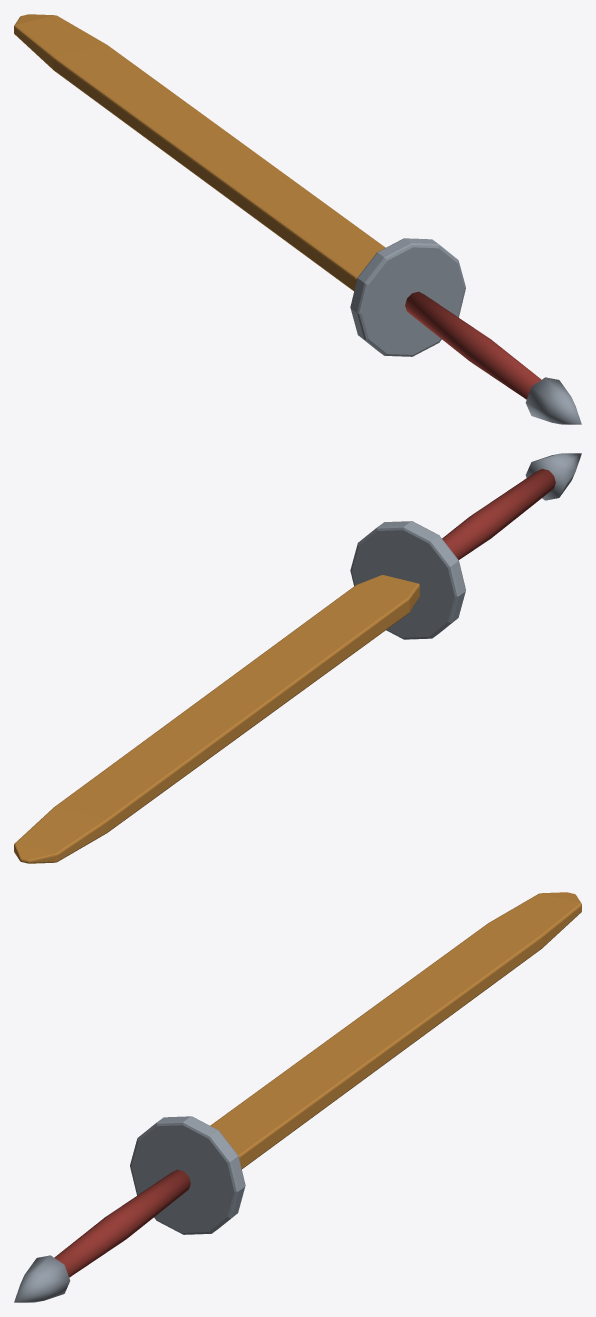
Rendered from greatsword_06_cleaver_bronze.glb.
3 renders of one model, top to bottom at view 1: azimuth 30°, elevation 25°; view 2: azimuth 150°, elevation 25°; view 3: azimuth 330°, elevation 25°, orthographic.
Parts seen in each view (by area): view 1: 06_cleaver_bronze_Blade, 06_cleaver_bronze_Guard, 06_cleaver_bronze_Grip, 06_cleaver_bronze_Pommel; view 2: 06_cleaver_bronze_Blade, 06_cleaver_bronze_Guard, 06_cleaver_bronze_Grip, 06_cleaver_bronze_Pommel; view 3: 06_cleaver_bronze_Blade, 06_cleaver_bronze_Guard, 06_cleaver_bronze_Grip, 06_cleaver_bronze_Pommel.
Part boxes in pixels (box(x1,y1,x2,y2)): 06_cleaver_bronze_Blade: box(14, 14, 385, 291); 06_cleaver_bronze_Guard: box(350, 238, 465, 356); 06_cleaver_bronze_Grip: box(405, 291, 541, 399); 06_cleaver_bronze_Pommel: box(525, 377, 581, 424); 06_cleaver_bronze_Blade: box(14, 575, 419, 863); 06_cleaver_bronze_Guard: box(350, 521, 465, 639); 06_cleaver_bronze_Grip: box(442, 468, 555, 559); 06_cleaver_bronze_Pommel: box(525, 453, 581, 500); 06_cleaver_bronze_Blade: box(210, 892, 581, 1169); 06_cleaver_bronze_Guard: box(130, 1116, 245, 1234); 06_cleaver_bronze_Grip: box(54, 1169, 190, 1277); 06_cleaver_bronze_Pommel: box(14, 1255, 70, 1302).
Bounding box in the file's own units: 0.1542 × 0.1542 × 1.37.
